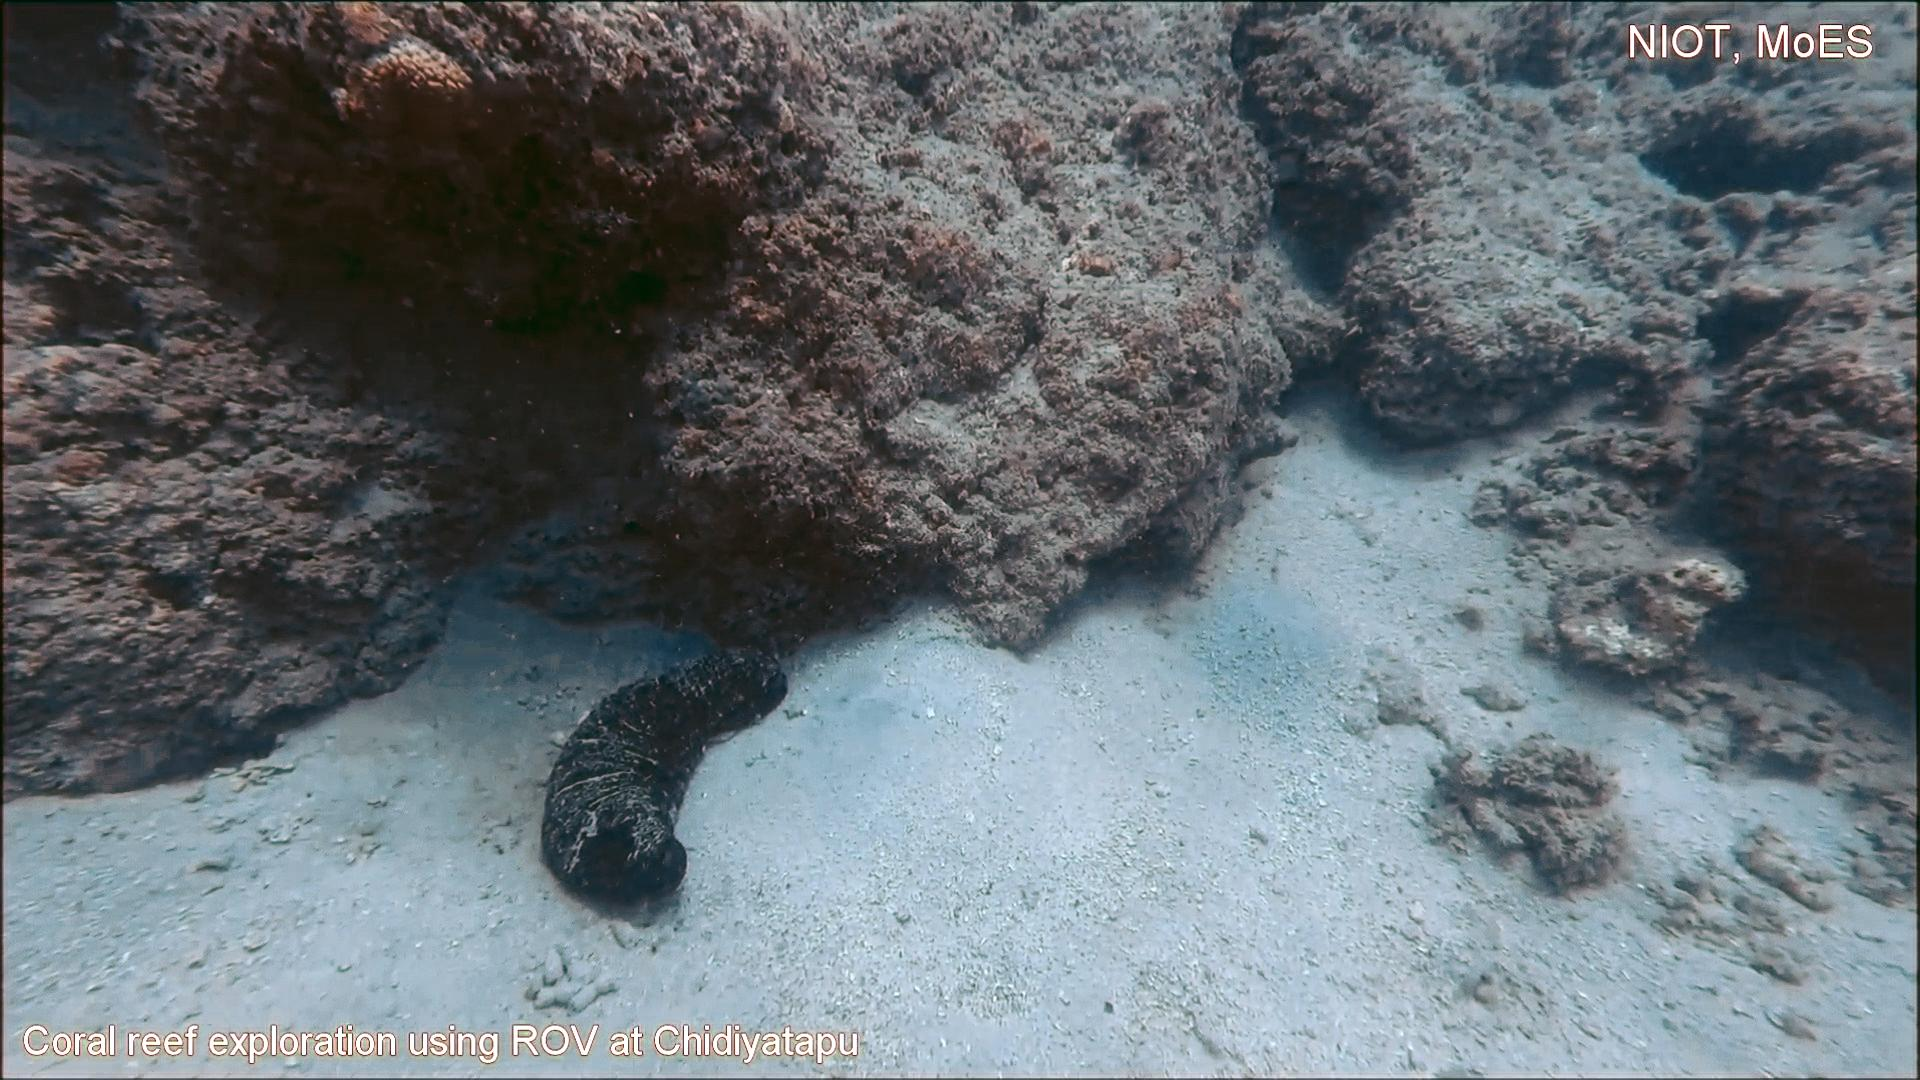Montastraea: (326, 33, 489, 171)
